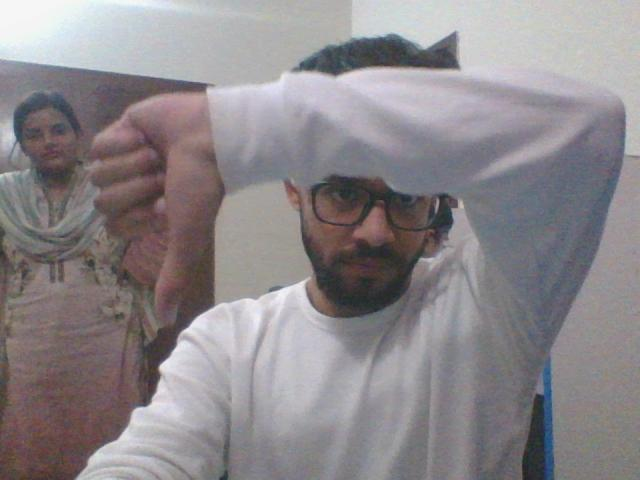thumbs-down: (88, 89, 226, 326)
